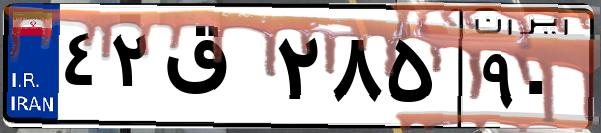0: (525, 38, 570, 115)
2: (270, 28, 330, 110), (110, 28, 158, 98)
4: (57, 26, 110, 100)
5: (385, 28, 445, 110)
8: (330, 28, 385, 110)
9: (475, 38, 525, 113)
ق: (158, 20, 270, 120)
